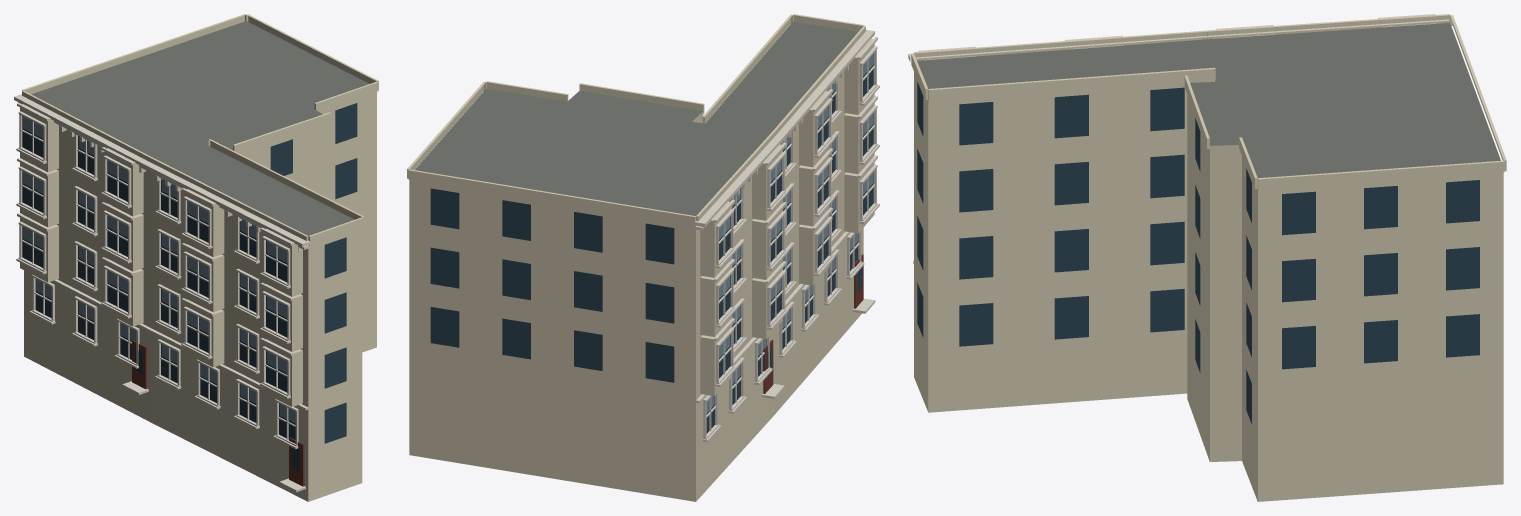
3 renders of one model, left to right at view 1: azimuth 30°, elevation 25°; view 2: azimuth 150°, elevation 25°; view 3: azimuth 270°, elevation 25°, orthographic. The views are drawn at different scales.
Visible parts, largest first — view 1: Footprint 0 / surface 2, Footprint 0 / surface 1, Cornices and window frames, Facade bay volumes, Inset glazing, Sky reflection panels, Storefronts and doors; view 2: Footprint 0 / surface 2, Footprint 0 / surface 1, Facade bay volumes, Cornices and window frames, Inset glazing, Sky reflection panels, Storefronts and doors; view 3: Footprint 0 / surface 2, Footprint 0 / surface 1, Inset glazing, Facade bay volumes, Cornices and window frames.
Boxes of the visible parts, x1,y1,x2,y2 form: Footprint 0 / surface 2: (24, 92, 376, 501); Footprint 0 / surface 1: (31, 21, 369, 235); Cornices and window frames: (14, 94, 310, 492); Facade bay volumes: (20, 14, 378, 406); Inset glazing: (22, 103, 357, 471); Sky reflection panels: (23, 116, 295, 423); Storefronts and doors: (132, 340, 304, 486); Footprint 0 / surface 2: (409, 70, 863, 501); Footprint 0 / surface 1: (415, 21, 857, 215); Facade bay volumes: (407, 14, 874, 396); Cornices and window frames: (695, 30, 879, 442); Inset glazing: (430, 53, 873, 433); Sky reflection panels: (706, 54, 873, 412); Storefronts and doors: (763, 254, 863, 393); Footprint 0 / surface 2: (914, 72, 1503, 501); Footprint 0 / surface 1: (917, 23, 1500, 178); Inset glazing: (917, 81, 1479, 424); Facade bay volumes: (911, 14, 1506, 190); Cornices and window frames: (908, 14, 1449, 263).
Bounding box in the file's own units: 17.14 × 14.95 × 25.04.
